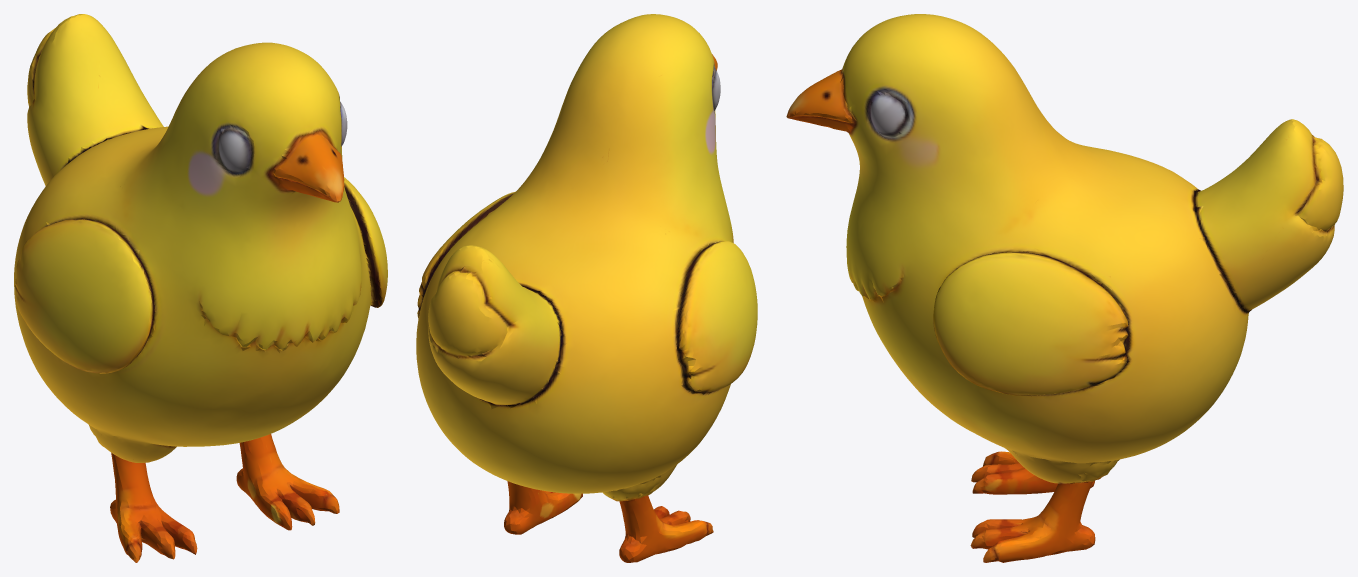
File: pheasant.glb
3 views of the same model, side by side, from view 1: azimuth 30°, elevation 25°; view 2: azimuth 150°, elevation 25°; view 3: azimuth 270°, elevation 25° (orthographic). The views are drawn at different scales.
Parts seen in each view (by area): view 1: pheasant; view 2: pheasant; view 3: pheasant.
Boxes of the visible parts, x1,y1,x2,y2 form: pheasant: (14, 14, 387, 562); pheasant: (416, 14, 757, 562); pheasant: (786, 14, 1343, 562).
Bounding box in the file's own units: 1.21 × 1.87 × 1.9.
1 material, 1 textured.
